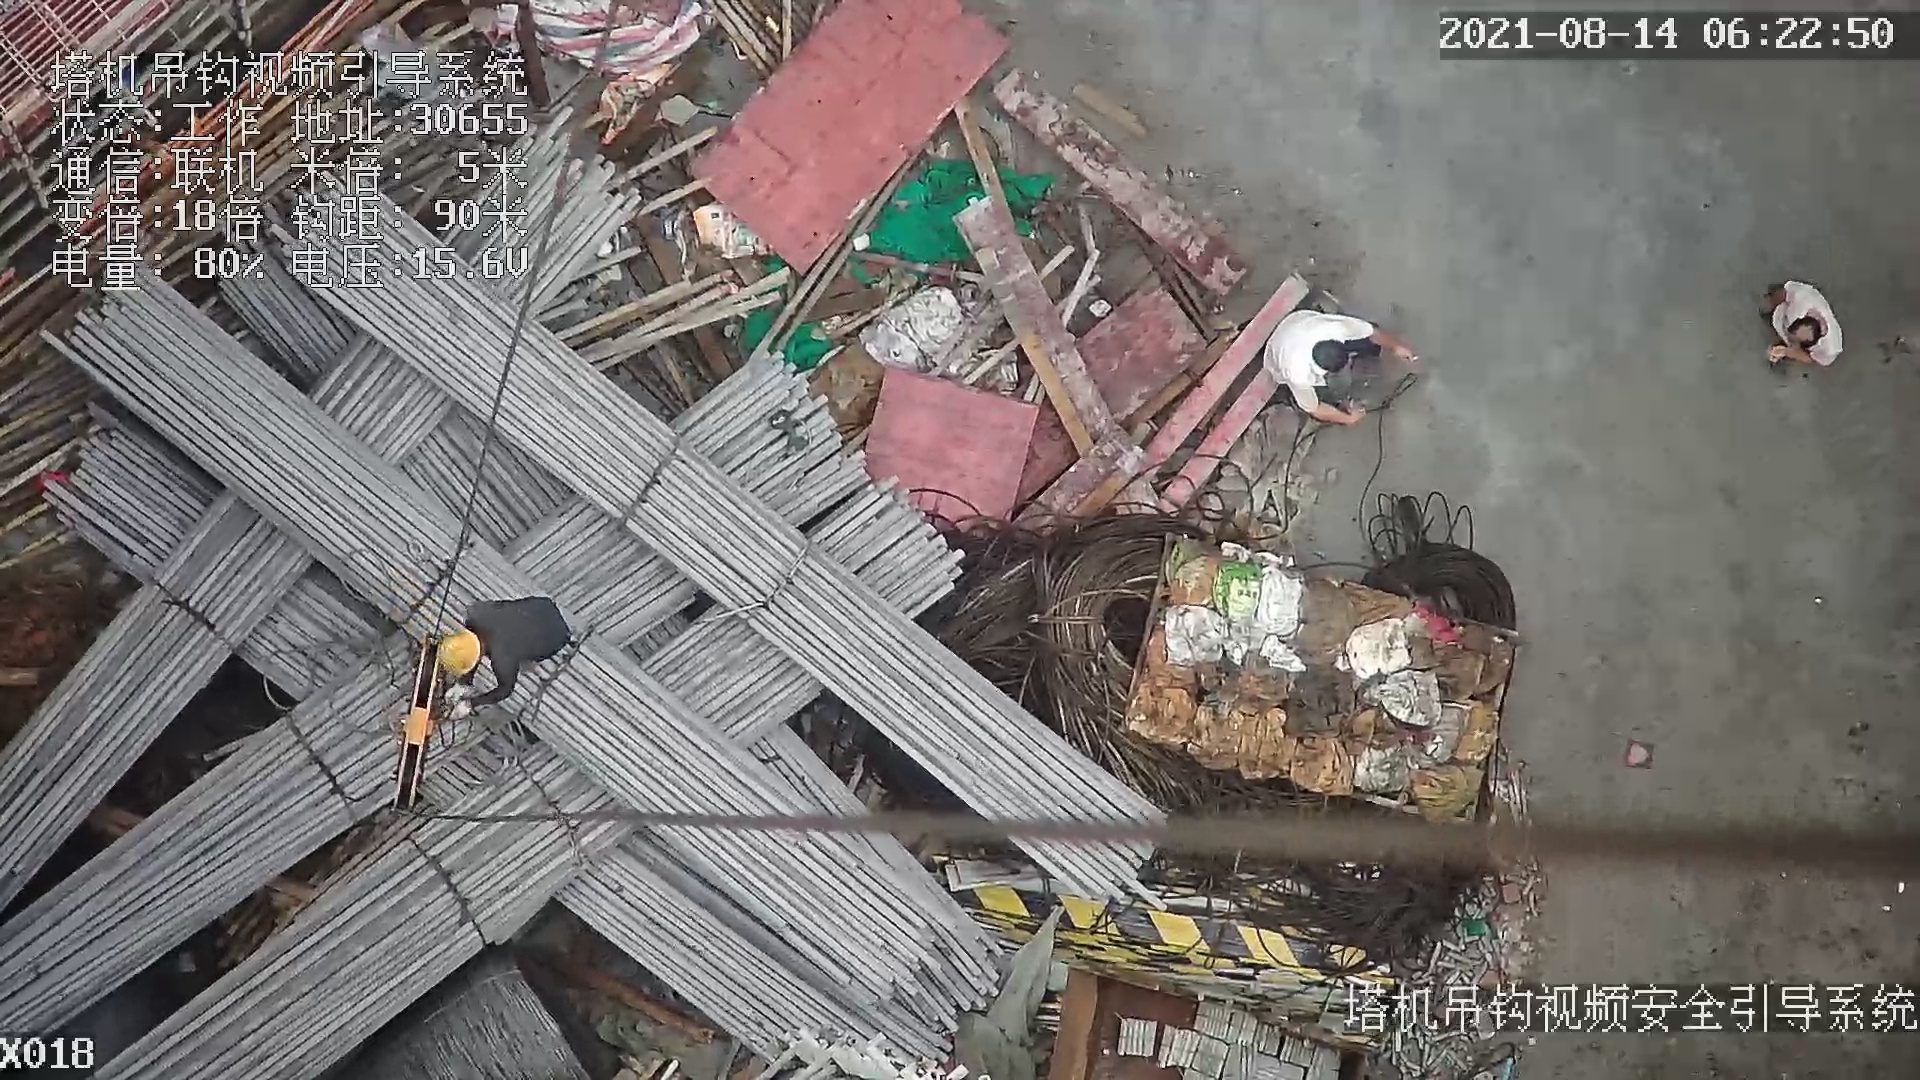board: (688, 1, 1018, 280)
helmet: (433, 627, 480, 685)
hook: (391, 642, 449, 817)
person: (1265, 301, 1423, 432), (423, 589, 577, 705), (1755, 269, 1845, 372)
